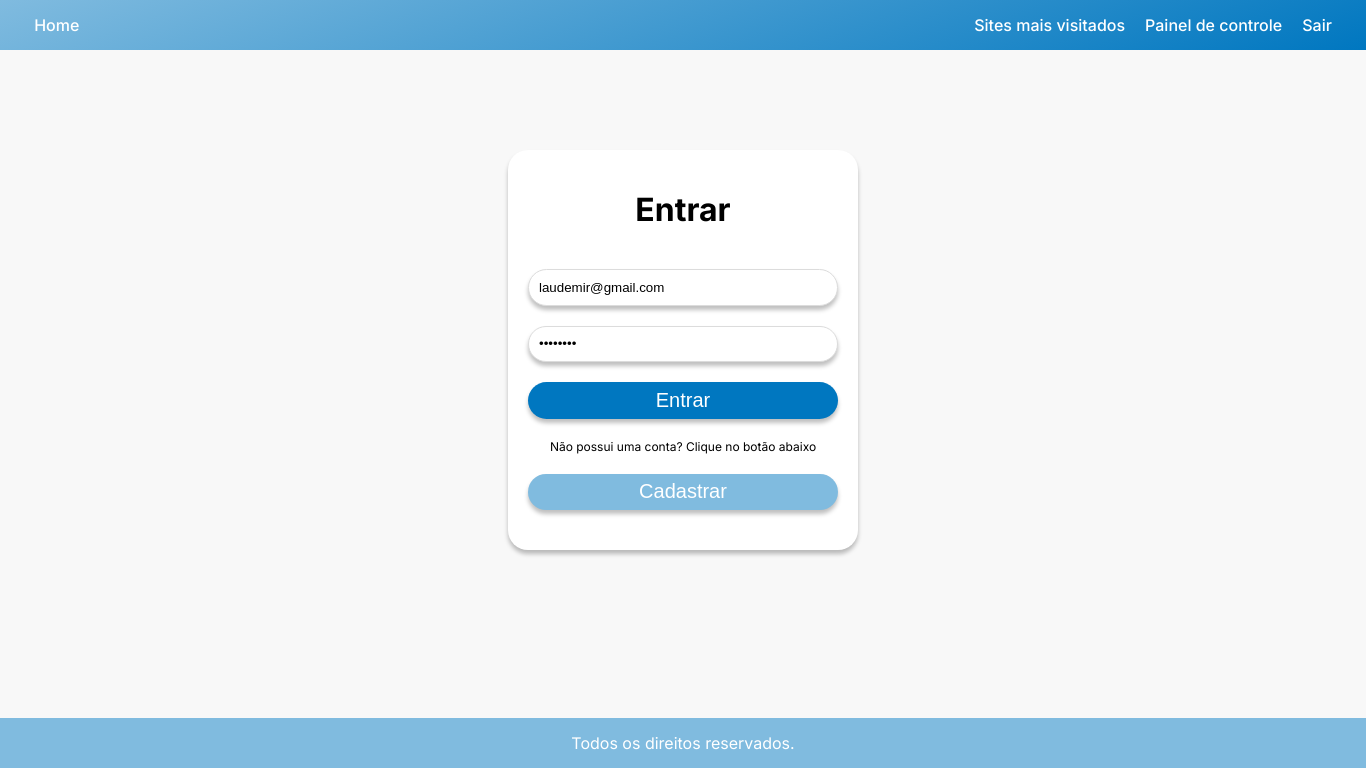
Test: Login test › Test in LogOut
Click the text "Sair" at (1317, 25), box left=1302, top=15, right=1332, bottom=35
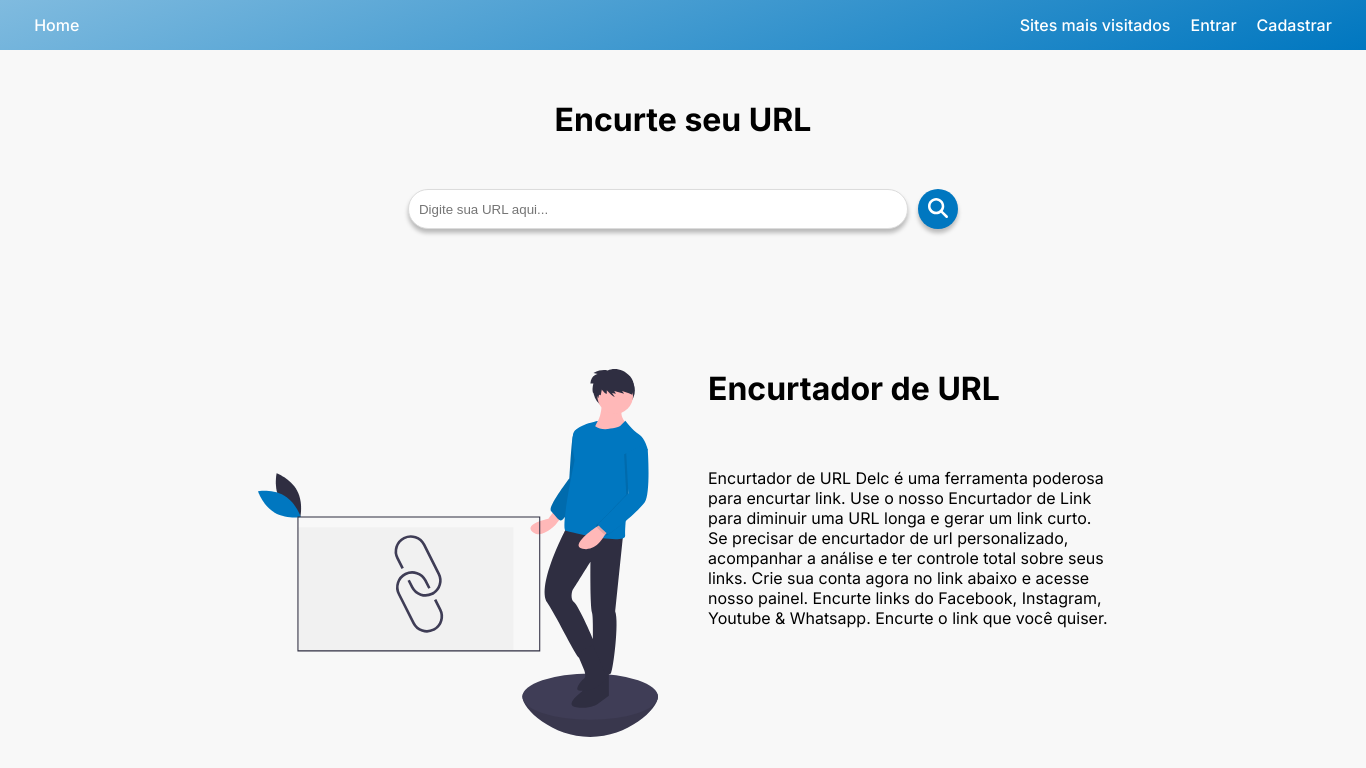
Check: the heading "Encurte seu URL" is shown, box left=555, top=100, right=811, bottom=139
